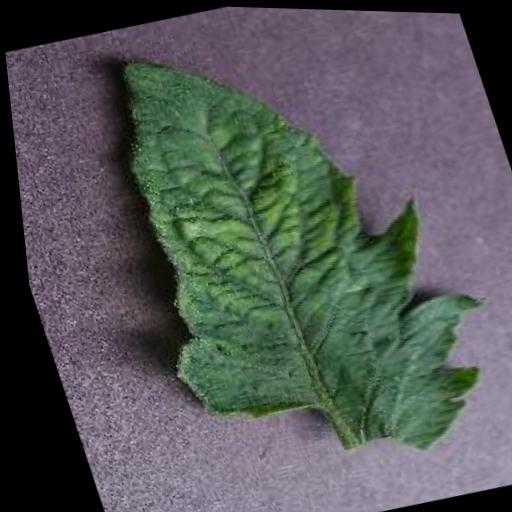Mosaic Virus: (68, 2, 512, 502)
